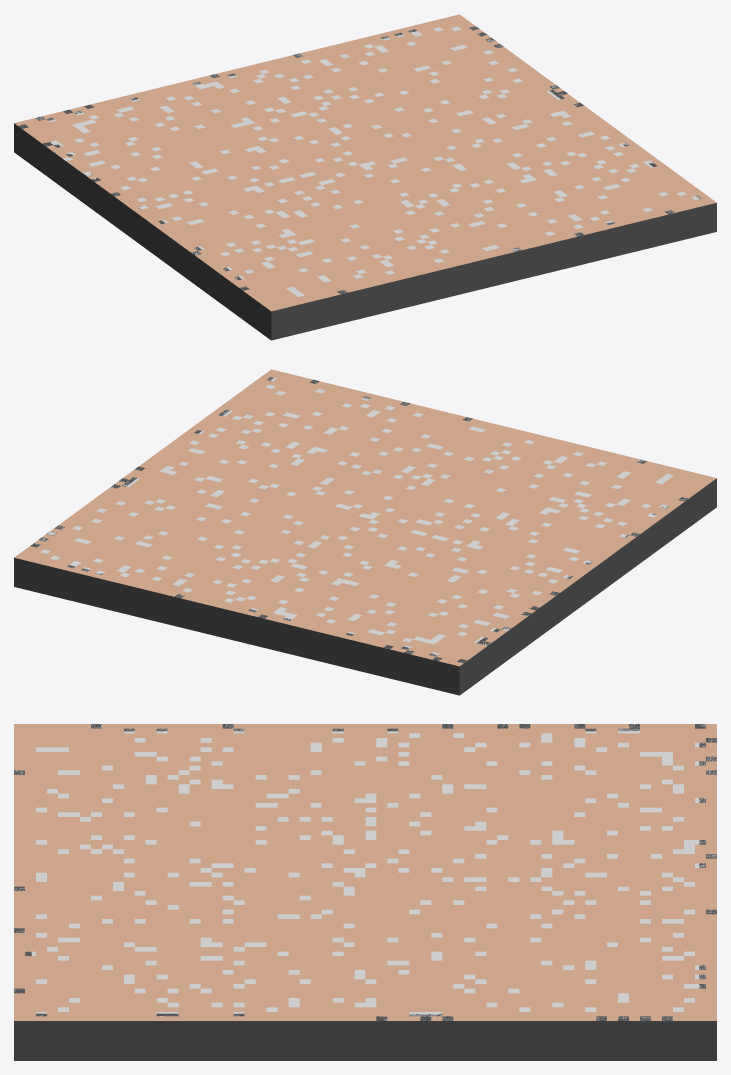
File: the_big_mall.fbx
The picture shows the model from 3 angles, top to bottom: view 1: azimuth 30°, elevation 25°; view 2: azimuth 150°, elevation 25°; view 3: azimuth 270°, elevation 25°; orthographic projection. The views are drawn at different scales.
Visible parts, largest first — view 1: Plane, lights; view 2: Plane, lights; view 3: Plane, lights.
Part boxes in pixels (<box>): Plane: <box>14,14,716,340</box>; lights: <box>21,26,700,296</box>; Plane: <box>14,369,716,695</box>; lights: <box>32,378,687,662</box>; Plane: <box>14,724,716,1060</box>; lights: <box>14,724,716,1021</box>.
Bounding box in the file's own units: 32000 × 2000 × 32000.
